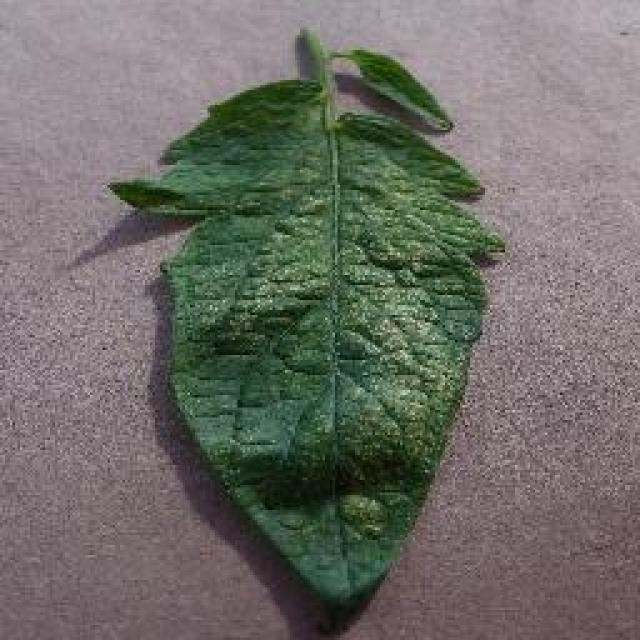Tomato___Spider_mites Two-spotted_spider_mite: (110, 35, 502, 615)
